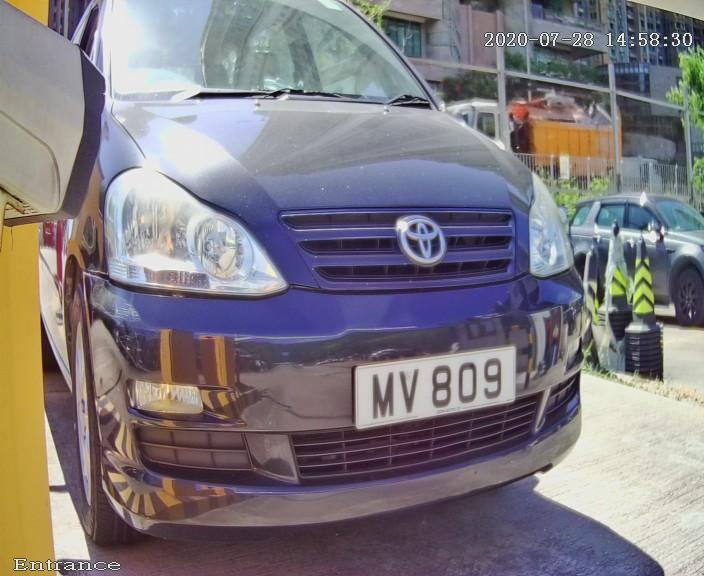privatecar: (32, 16, 645, 564)
